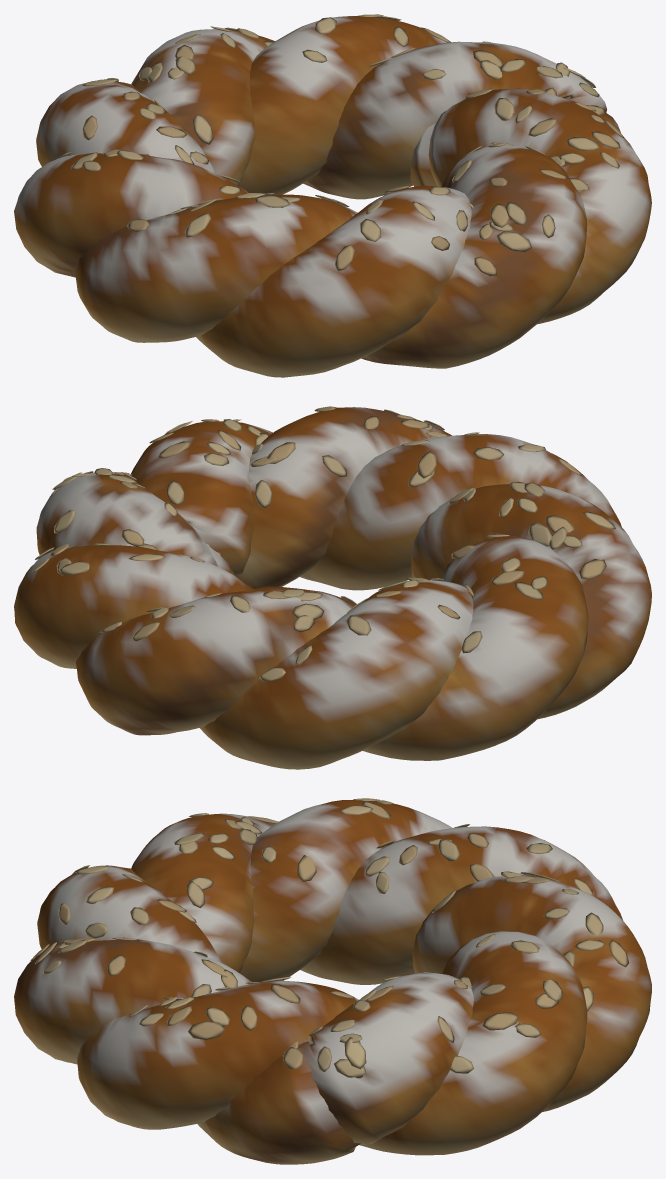
The model's file is kranzkuchen-gefuellt-nuss-schoko-quark-oder-pudding.glb.
3 views of the same model, one above another, from view 1: azimuth 30°, elevation 25°; view 2: azimuth 150°, elevation 25°; view 3: azimuth 270°, elevation 25° (orthographic).
Visible parts, largest first — view 1: kranzkuchen-gefuellt-nuss-schoko-quark-oder-pudding; view 2: kranzkuchen-gefuellt-nuss-schoko-quark-oder-pudding; view 3: kranzkuchen-gefuellt-nuss-schoko-quark-oder-pudding.
Boxes of the visible parts, <box> form: kranzkuchen-gefuellt-nuss-schoko-quark-oder-pudding: <box>14,14,651,377</box>; kranzkuchen-gefuellt-nuss-schoko-quark-oder-pudding: <box>14,406,651,769</box>; kranzkuchen-gefuellt-nuss-schoko-quark-oder-pudding: <box>14,798,651,1164</box>.
Bounding box in the file's own units: 0.26 × 0.071 × 0.26.
